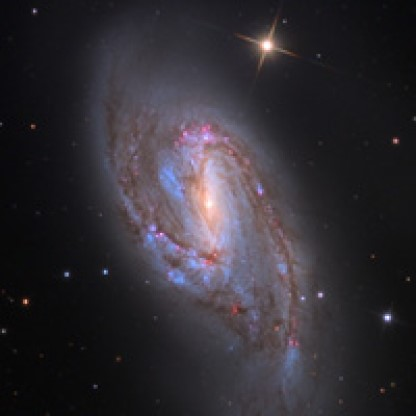Messier 66: (83, 13, 324, 392)
